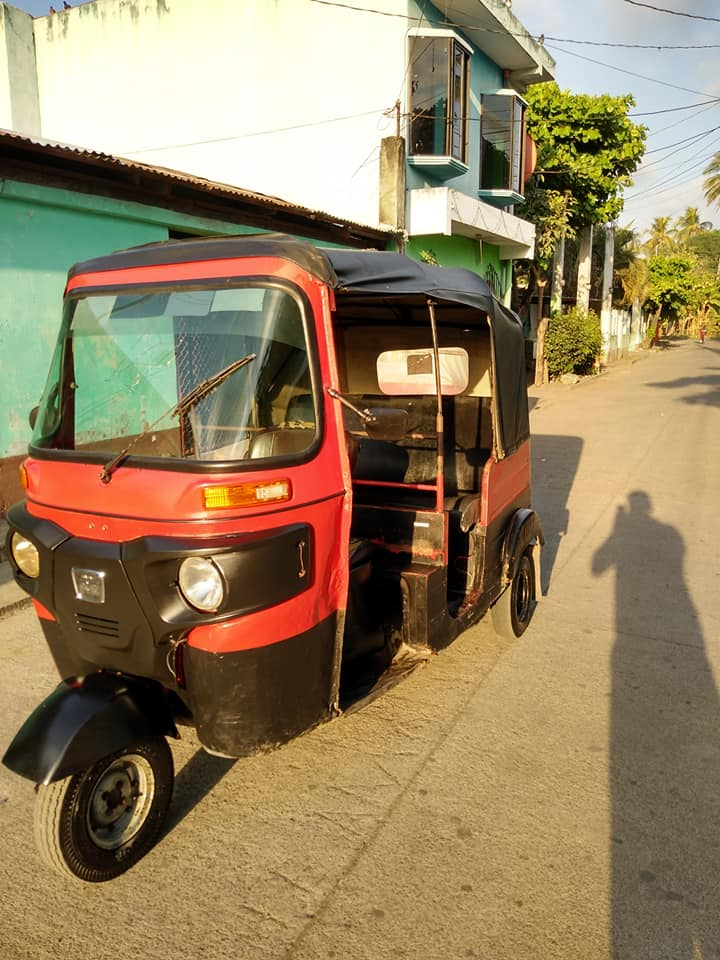mototaxi: (9, 231, 547, 880)
